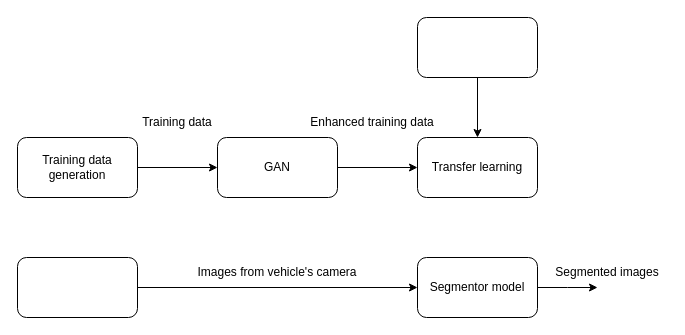
The diagram is 685 pixels wide and 335 high, and some of its shapes have lost their labels. The shapes that lost their labels are listed below. From the top down, each one's box as (x1, y1, x2, y2) in pixels, then its label:
(416, 16, 538, 78): Pretrained models (FCN / U-net / Mask R-CNN)
(16, 256, 138, 318): Car on the road
